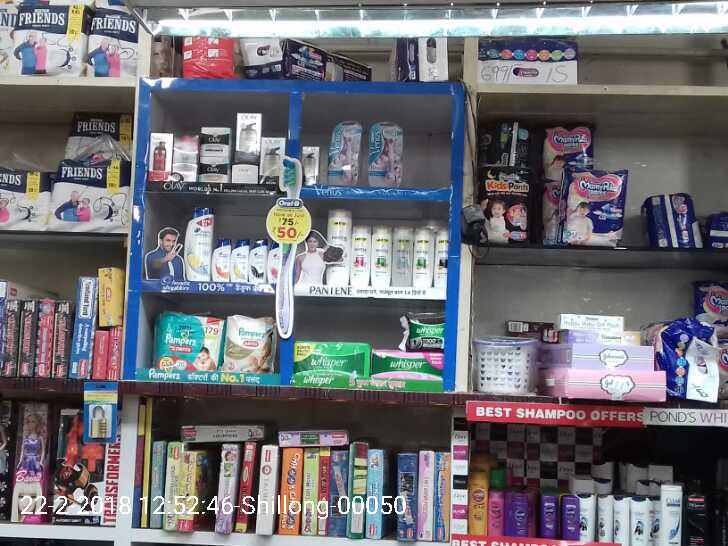venus: (369, 122, 400, 188), (333, 120, 359, 184)
